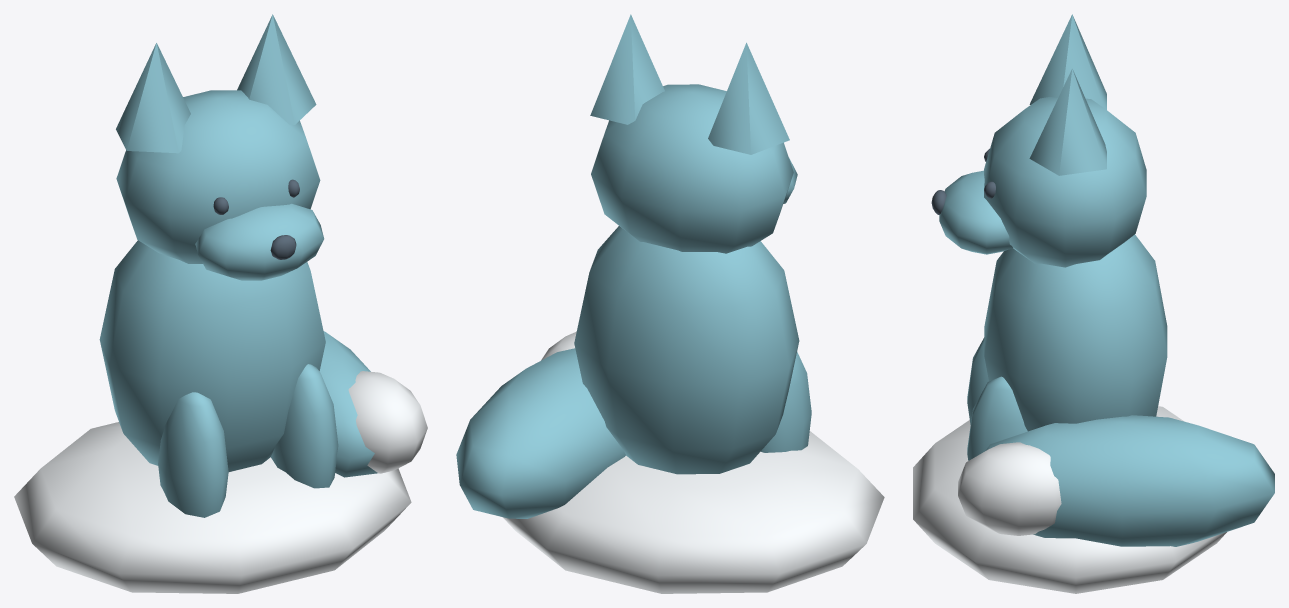
Rendered from alpine-snow-village-ice-fox-sculpture-7cef66b3.glb.
3 renders of one model, left to right at view 1: azimuth 30°, elevation 25°; view 2: azimuth 150°, elevation 25°; view 3: azimuth 270°, elevation 25°, orthographic. The views are drawn at different scales.
Parts seen in each view (by area): view 1: ice-fox-sculpture-ice, ice-fox-sculpture-snow, ice-fox-sculpture-iron; view 2: ice-fox-sculpture-ice, ice-fox-sculpture-snow; view 3: ice-fox-sculpture-ice, ice-fox-sculpture-snow, ice-fox-sculpture-iron.
Part boxes in pixels (x1=…): ice-fox-sculpture-ice: x1=99, y1=14, x2=377, y2=517; ice-fox-sculpture-snow: x1=14, y1=371, x2=427, y2=593; ice-fox-sculpture-iron: x1=213, y1=179, x2=299, y2=259; ice-fox-sculpture-ice: x1=456, y1=14, x2=811, y2=518; ice-fox-sculpture-snow: x1=502, y1=331, x2=884, y2=593; ice-fox-sculpture-ice: x1=939, y1=14, x2=1274, y2=546; ice-fox-sculpture-snow: x1=913, y1=406, x2=1226, y2=593; ice-fox-sculpture-iron: x1=931, y1=148, x2=995, y2=214.
Bounding box in the file's own units: 1.12 × 1.57 × 1.01.
